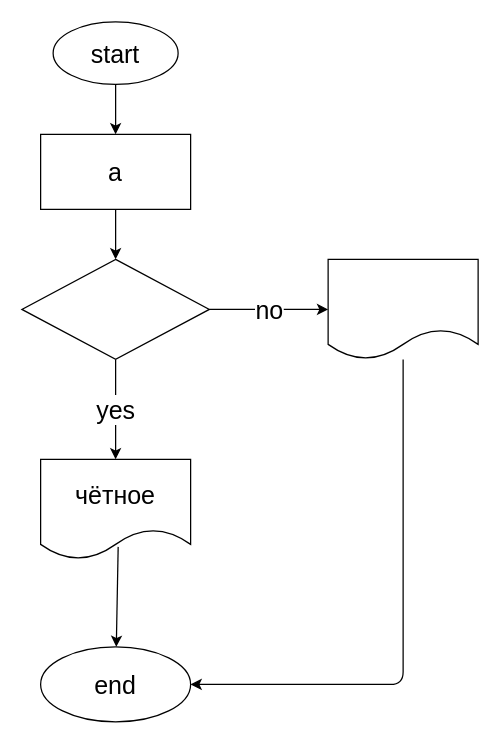
Image size: 500x744. Some labels were removed from this diagram. The shapes that lost their labels are listed below. From the top down, each one's centre as x and y in pixels, then its label:
At (115,308): "a % 2 == 0".
At (402,308): "нечётное".
